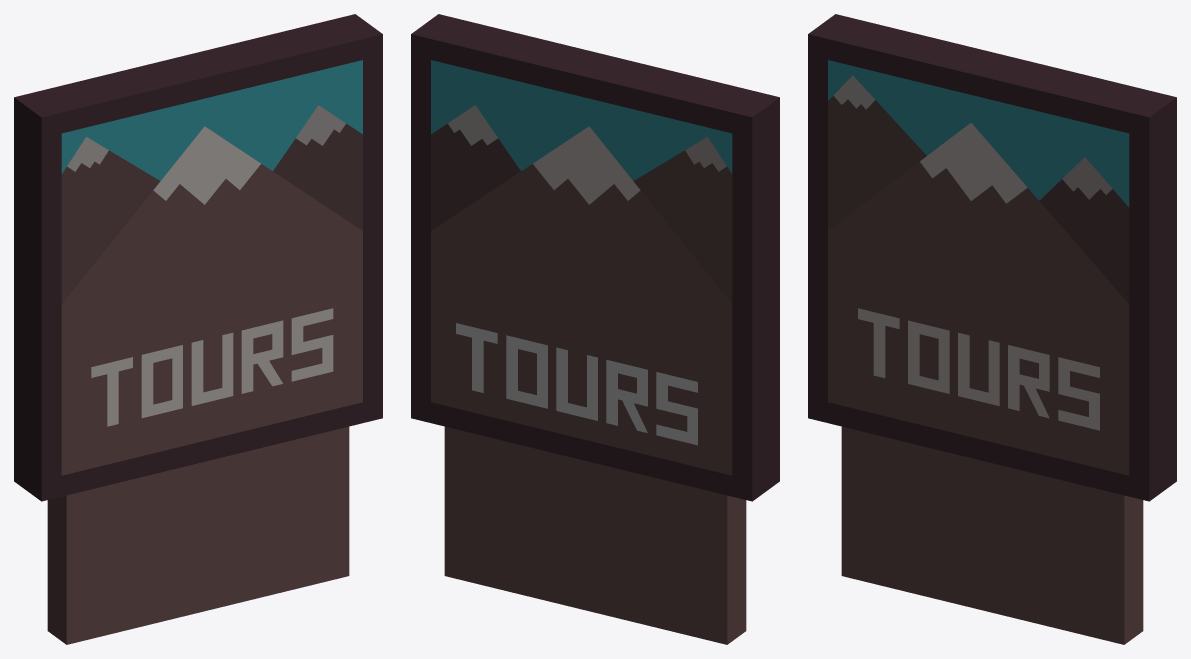
The model's file is AdPanel.fbx.
3 views of the same model, side by side, from view 1: azimuth 30°, elevation 25°; view 2: azimuth 150°, elevation 25°; view 3: azimuth 330°, elevation 25° (orthographic).
Visible parts, largest first — view 1: AdPanel; view 2: AdPanel; view 3: AdPanel.
Boxes of the visible parts, left/top/right/bottom form: AdPanel: left=14, top=14, right=382, bottom=644; AdPanel: left=411, top=14, right=779, bottom=644; AdPanel: left=808, top=14, right=1176, bottom=644.
Size of the model in its own units: 1.16 by 1.75 by 0.1625.
